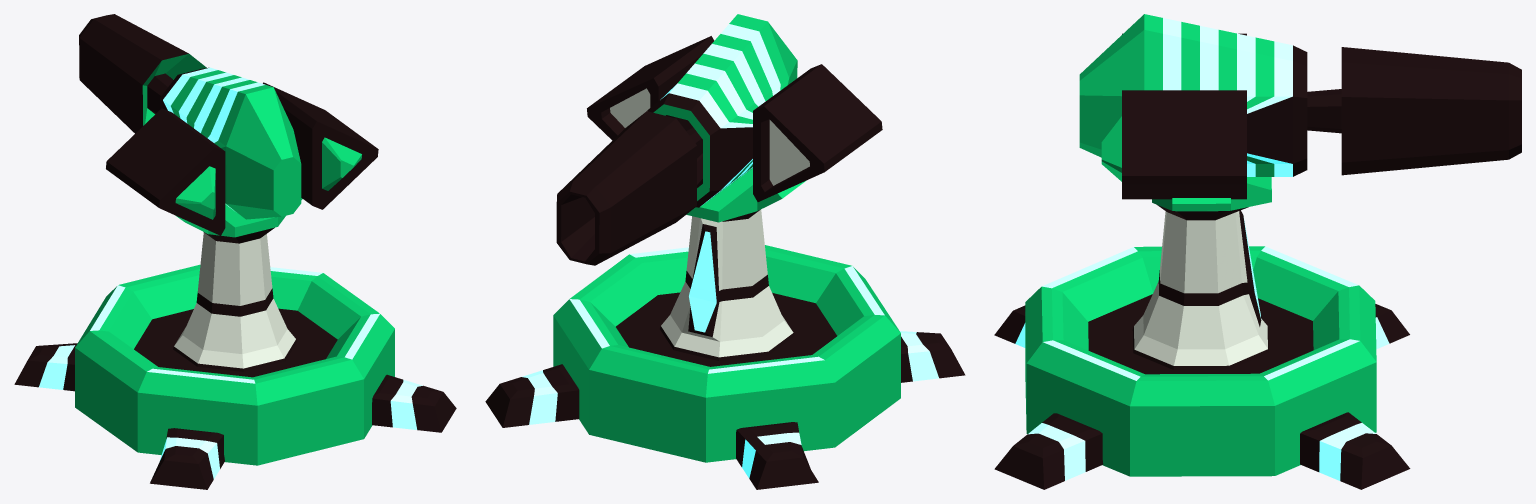
Rendered from Turret.fbx.
The picture shows the model from 3 angles, left to right: view 1: azimuth 30°, elevation 25°; view 2: azimuth 150°, elevation 25°; view 3: azimuth 270°, elevation 25°; orthographic projection. The views are drawn at different scales.
Visible parts, largest first — view 1: Base, Turret; view 2: Base, Turret; view 3: Turret, Base.
Boxes of the visible parts, left/top/right/bottom form: Base: left=14, top=264, right=456, bottom=489; Turret: left=79, top=14, right=378, bottom=371; Base: left=485, top=245, right=965, bottom=489; Turret: left=556, top=14, right=882, bottom=360; Turret: left=1079, top=14, right=1521, bottom=369; Base: left=994, top=246, right=1410, bottom=489.
Size of the model in its own units: 107 by 108 by 136.
